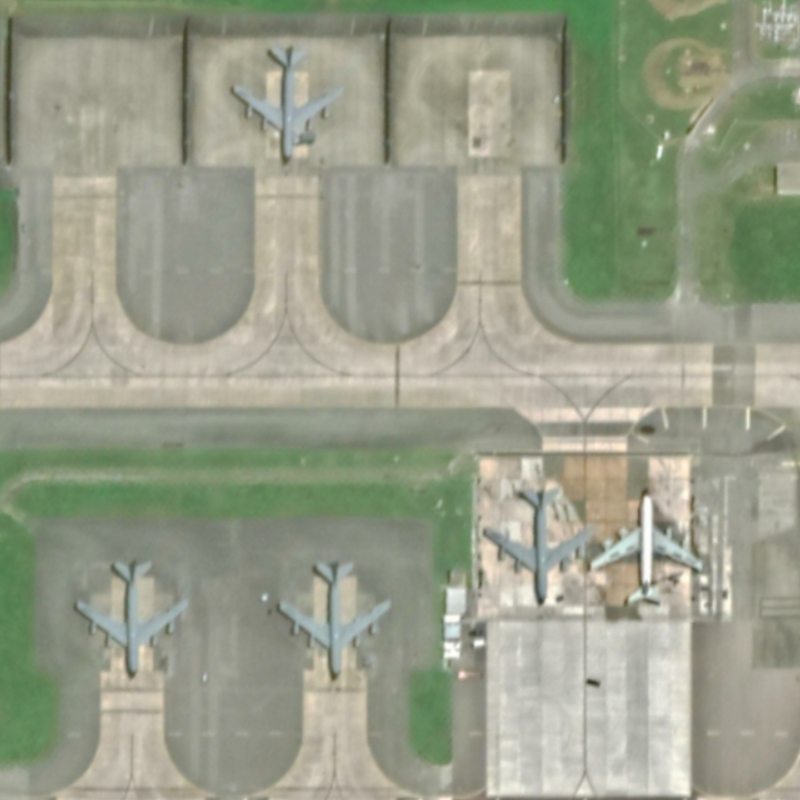A11: (586, 481, 711, 609)
A14: (66, 552, 196, 682), (275, 550, 397, 686), (476, 478, 596, 610), (228, 39, 345, 172)
